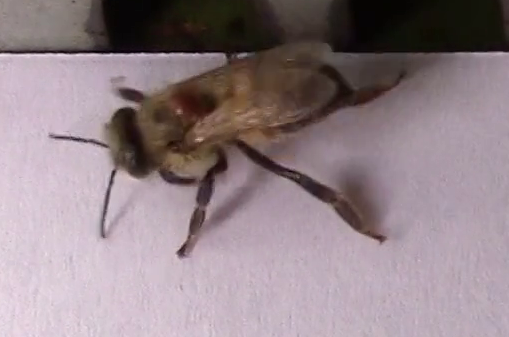Varroa destructor: (166, 86, 220, 125)
